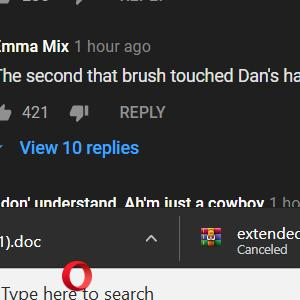opera: (62, 261, 92, 291)
